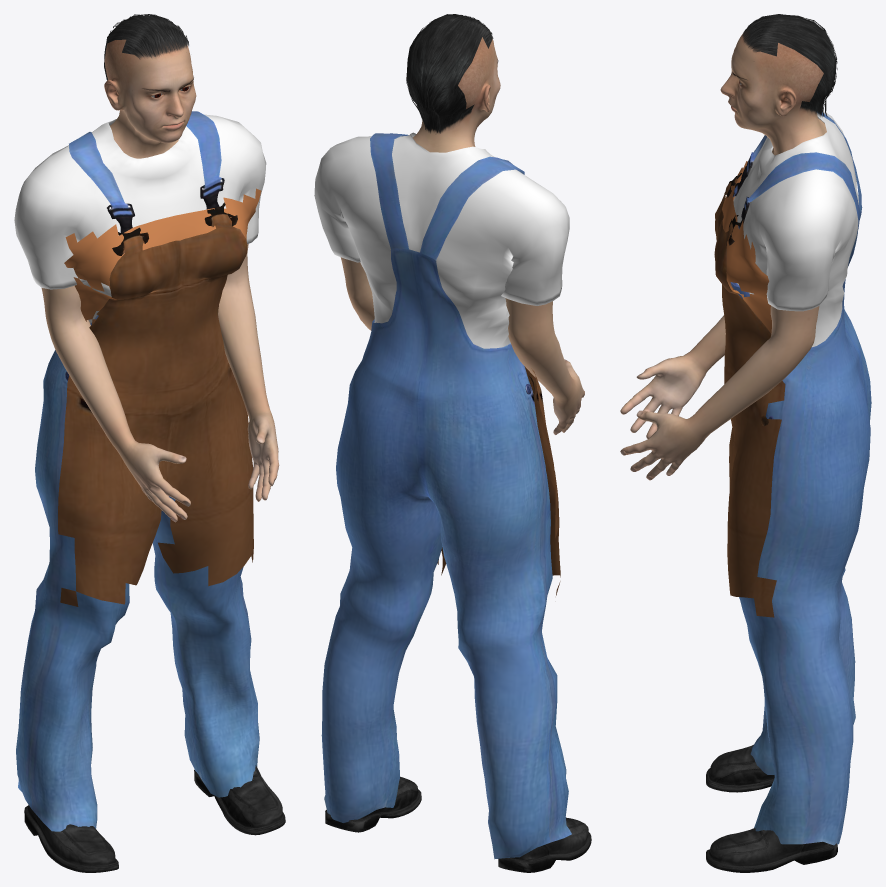
Rendered from kesh.glb.
The picture shows the model from 3 angles, left to right: view 1: azimuth 30°, elevation 25°; view 2: azimuth 150°, elevation 25°; view 3: azimuth 270°, elevation 25°; orthographic projection. The views are drawn at different scales.
Visible parts, largest first — view 1: Human.male_worksuit01, apron, Human, Human.shoes04, Human.short04; view 2: Human.male_worksuit01, Human, Human.short04, Human.shoes04, apron; view 3: Human.male_worksuit01, Human, apron, Human.shoes04, Human.short04.
Part boxes in pixels (<box>): Human.male_worksuit01: <box>14,111,266,831</box>; apron: <box>58,188,261,606</box>; Human: <box>41,39,279,522</box>; Human.shoes04: <box>24,765,285,872</box>; Human.short04: <box>104,14,188,80</box>; Human.male_worksuit01: <box>314,132,571,859</box>; Human: <box>340,37,584,434</box>; Human.short04: <box>406,14,493,133</box>; Human.shoes04: <box>325,776,591,872</box>; apron: <box>437,366,560,595</box>; Human.male_worksuit01: <box>730,111,871,845</box>; Human: <box>620,32,826,480</box>; apron: <box>714,161,785,617</box>; Human.shoes04: <box>706,745,837,872</box>; Human.short04: <box>742,14,837,117</box>.
Bounding box in the file's own units: 0.5011 × 1.6 × 0.4525.
Materials: 7 (7 with a texture image).
